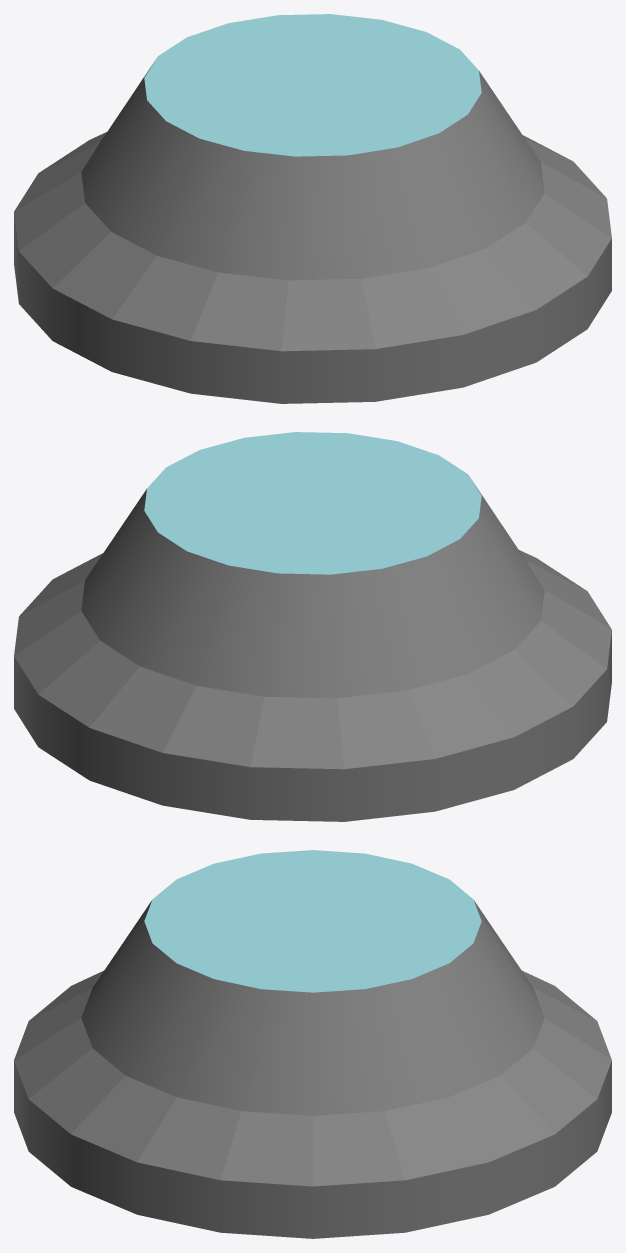
The model's file is RandomAsset1.fbx.
3 views of the same model, one above another, from view 1: azimuth 30°, elevation 25°; view 2: azimuth 150°, elevation 25°; view 3: azimuth 270°, elevation 25° (orthographic).
Parts seen in each view (by area): view 1: pCylinder7; view 2: pCylinder7; view 3: pCylinder7.
Boxes of the visible parts, x1,y1,x2,y2 form: pCylinder7: (14, 14, 611, 403); pCylinder7: (14, 432, 611, 821); pCylinder7: (14, 850, 611, 1238).
Bounding box in the file's own units: 12.47 × 4.4 × 12.47.
